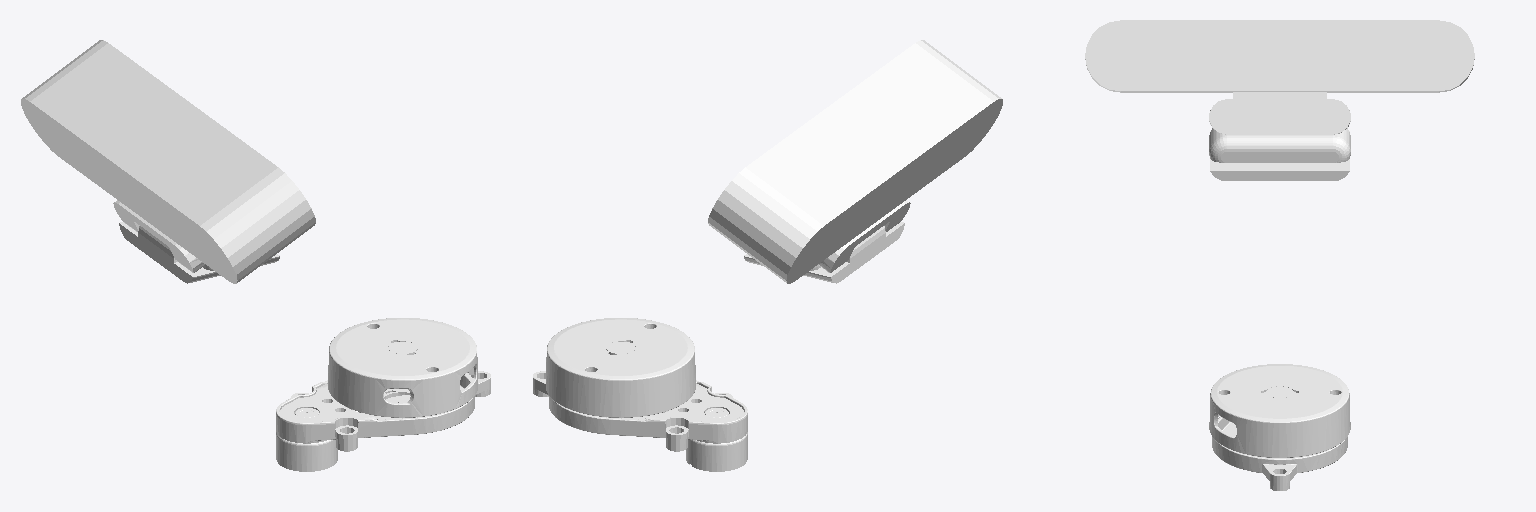
The robot description file, URDF, robot "limo_s2_description":
<?xml version="1.0" encoding="utf-8"?>
<!-- This URDF was automatically created by SolidWorks to URDF Exporter! Originally created by [author] ([email redacted]) 
     Commit Version: 1.6.0-1-g15f4949  Build Version: 1.6.7594.29634
     For more information, please see http://wiki.ros.org/sw_urdf_exporter -->
<robot
  name="limo_s2_description">
  <link
    name="base_link">
    <inertial>
      <origin
        xyz="0.0122854831271005 0.000301648748017558 0.00574813366704866"
        rpy="0 0 0" />
      <mass
        value="0.935880940379454" />
      <inertia
        ixx="0.00230607305054725"
        ixy="-2.1703175852137E-06"
        ixz="-0.000107737732961607"
        iyy="0.00211409736296743"
        iyz="-6.53845042786095E-07"
        izz="0.0038728434760199" />
    </inertial>
    <visual>
      <origin
        xyz="0.1 0 0"
        rpy="0 0 1.57" />
      <geometry>
        <mesh
          filename="package://limo_s2_description/meshes/dae/base_link.dae" />
      </geometry>
      <material
        name="">
        <color
          rgba="0.898039215686275 0.917647058823529 0.929411764705882 1" />
      </material>
    </visual>
    <collision>
      <origin
        xyz="0 0 0"
        rpy="0 0 0" />
      <geometry>
        <mesh
          filename="package://limo_s2_description/meshes/dae/base_link.dae" />
      </geometry>
    </collision>
  </link>
  <link
    name="front_left_wheel_Link">
    <inertial>
      <origin
        xyz="1.8652E-06 0.017054 7.5135E-07"
        rpy="0 0 0" />
      <mass
        value="0.20445" />
      <inertia
        ixx="6.6928E-05"
        ixy="5.6721E-09"
        ixz="6.8142E-10"
        iyy="0.00011034"
        iyz="3.3358E-10"
        izz="6.6926E-05" />
    </inertial>
    <visual>
      <origin
        xyz="0 0 0"
        rpy="0 0 0" />
      <geometry>
        <mesh
          filename="package://limo_s2_description/meshes/front_left_wheel_Link.STL" />
      </geometry>
      <material
        name="">
        <color
          rgba="0.75294 0.75294 0.75294 1" />
      </material>
    </visual>
    <collision>
      <origin
        xyz="0 0 0"
        rpy="0 0 0" />
      <geometry>
        <mesh
          filename="package://limo_s2_description/meshes/front_left_wheel_Link.STL" />
      </geometry>
    </collision>
  </link>
  <joint
    name="front_left_wheel_joint"
    type="continuous">
    <origin
      xyz="0.11788 0.06634 -0.0255"
      rpy="0 0 0" />
    <parent
      link="base_link" />
    <child
      link="front_left_wheel_Link" />
    <axis
      xyz="0 1 0" />
  </joint>
  <link
    name="front_right_wheel_Link">
    <inertial>
      <origin
        xyz="1.3775E-06 0.017054 -6.6041E-07"
        rpy="0 0 0" />
      <mass
        value="0.20445" />
      <inertia
        ixx="6.6928E-05"
        ixy="6.0143E-09"
        ixz="1.0384E-10"
        iyy="0.00011034"
        iyz="1.1454E-10"
        izz="6.6926E-05" />
    </inertial>
    <visual>
      <origin
        xyz="0 0 0"
        rpy="0 0 0" />
      <geometry>
        <mesh
          filename="package://limo_s2_description/meshes/front_right_wheel_Link.STL" />
      </geometry>
      <material
        name="">
        <color
          rgba="0.75294 0.75294 0.75294 1" />
      </material>
    </visual>
    <collision>
      <origin
        xyz="0 0 0"
        rpy="0 0 0" />
      <geometry>
        <mesh
          filename="package://limo_s2_description/meshes/front_right_wheel_Link.STL" />
      </geometry>
    </collision>
  </link>
  <joint
    name="front_right_wheel_joint"
    type="continuous">
    <origin
      xyz="0.11788 -0.06667 -0.0255"
      rpy="-3.1416 0 0" />
    <parent
      link="base_link" />
    <child
      link="front_right_wheel_Link" />
    <axis
      xyz="0 1 0" />
  </joint>
  <link
    name="rear_right_wheel_Link">
    <inertial>
      <origin
        xyz="-1.3772E-06 0.017054 -1.4935E-06"
        rpy="0 0 0" />
      <mass
        value="0.20445" />
      <inertia
        ixx="6.6927E-05"
        ixy="-4.9607E-09"
        ixz="1.167E-09"
        iyy="0.00011034"
        iyz="-2.7513E-09"
        izz="6.6927E-05" />
    </inertial>
    <visual>
      <origin
        xyz="0 0 0"
        rpy="0 0 0" />
      <geometry>
        <mesh
          filename="package://limo_s2_description/meshes/rear_right_wheel_Link.STL" />
      </geometry>
      <material
        name="">
        <color
          rgba="0.75294 0.75294 0.75294 1" />
      </material>
    </visual>
    <collision>
      <origin
        xyz="0 0 0"
        rpy="0 0 0" />
      <geometry>
        <mesh
          filename="package://limo_s2_description/meshes/rear_right_wheel_Link.STL" />
      </geometry>
    </collision>
  </link>
  <joint
    name="rear_right_wheel_joint"
    type="continuous">
    <origin
      xyz="-0.085123 -0.06667 -0.0255"
      rpy="3.1416 0 0" />
    <parent
      link="base_link" />
    <child
      link="rear_right_wheel_Link" />
    <axis
      xyz="0 1 0" />
  </joint>
  <link
    name="rear_letf_wheel_Link">
    <inertial>
      <origin
        xyz="1.1015E-06 0.017054 9.9372E-07"
        rpy="0 0 0" />
      <mass
        value="0.20445" />
      <inertia
        ixx="6.6926E-05"
        ixy="2.2044E-09"
        ixz="4.6491E-10"
        iyy="0.00011034"
        iyz="5.6133E-09"
        izz="6.6927E-05" />
    </inertial>
    <visual>
      <origin
        xyz="0 0 0"
        rpy="0 0 0" />
      <geometry>
        <mesh
          filename="package://limo_s2_description/meshes/rear_letf_wheel_Link.STL" />
      </geometry>
      <material
        name="">
        <color
          rgba="0.75294 0.75294 0.75294 1" />
      </material>
    </visual>
    <collision>
      <origin
        xyz="0 0 0"
        rpy="0 0 0" />
      <geometry>
        <mesh
          filename="package://limo_s2_description/meshes/rear_letf_wheel_Link.STL" />
      </geometry>
    </collision>
  </link>
  <joint
    name="rear_letf_wheel_joint"
    type="continuous">
    <origin
      xyz="-0.085123 0.06634 -0.0255"
      rpy="0 0 0" />
    <parent
      link="base_link" />
    <child
      link="rear_letf_wheel_Link" />
    <axis
      xyz="0 1 0" />
  </joint>
  <link
    name="laser_Link">
    <inertial>
      <origin
        xyz="-0.015885 0.00013253 -0.001814"
        rpy="0 0 0" />
      <mass
        value="0.023778" />
      <inertia
        ixx="5.1422E-06"
        ixy="-1.438E-08"
        ixz="-1.6035E-09"
        iyy="8.3268E-06"
        iyz="1.8496E-08"
        izz="1.2862E-05" />
    </inertial>
    <visual>
      <origin
        xyz="0 0 0"
        rpy="0 0 0" />
      <geometry>
        <mesh
          filename="package://limo_s2_description/meshes/laser_Link.STL" />
      </geometry>
      <material
        name="">
        <color
          rgba="1 1 1 1" />
      </material>
    </visual>
    <collision>
      <origin
        xyz="0 0 0"
        rpy="0 0 0" />
      <geometry>
        <mesh
          filename="package://limo_s2_description/meshes/laser_Link.STL" />
      </geometry>
    </collision>
  </link>
  <joint
    name="laser_joint"
    type="fixed">
    <origin
      xyz="0.0038772 -0.00016487 0.0644"
      rpy="0 0 0" />
    <parent
      link="base_link" />
    <child
      link="laser_Link" />
    <axis
      xyz="0 0 0" />
  </joint>
  <link
    name="camera_Link">
    <inertial>
      <origin
        xyz="0 0 0"
        rpy="0 0 0" />
      <mass
        value="0" />
      <inertia
        ixx="0"
        ixy="0"
        ixz="0"
        iyy="0"
        iyz="0"
        izz="0" />
    </inertial>
    <visual>
      <origin
        xyz="0 0 0"
        rpy="0 0 0" />
      <geometry>
        <mesh
          filename="package://limo_s2_description/meshes/camera_Link.STL" />
      </geometry>
      <material
        name="">
        <color
          rgba="1 1 1 1" />
      </material>
    </visual>
    <collision>
      <origin
        xyz="0 0 0"
        rpy="0 0 0" />
      <geometry>
        <mesh
          filename="package://limo_s2_description/meshes/camera_Link.STL" />
      </geometry>
    </collision>
  </link>
  <joint
    name="camera_joint"
    type="fixed">
    <origin
      xyz="-0.091096 -0.00016487 0.1615"
      rpy="0 0 0" />
    <parent
      link="base_link" />
    <child
      link="camera_Link" />
    <axis
      xyz="0 0 0" />
  </joint>
</robot>

--- Facts derived from the render (not from the file) ---
Views: 3 orthographic renders of the robot side by side, from view 1: azimuth 30°, elevation 25°; view 2: azimuth 150°, elevation 25°; view 3: azimuth 270°, elevation 25°.
Robot: limo_s2_description — 7 links, 6 joints (4 continuous, 2 fixed); root link base_link; default pose: every joint at zero.
Links seen in each view (by area): view 1: camera_Link, laser_Link; view 2: camera_Link, laser_Link; view 3: camera_Link, laser_Link.
Link boxes in pixels (<box>): camera_Link: <box>21,40,315,283</box>; laser_Link: <box>276,318,490,471</box>; camera_Link: <box>708,40,1002,283</box>; laser_Link: <box>533,318,747,471</box>; camera_Link: <box>1085,20,1474,180</box>; laser_Link: <box>1209,364,1350,490</box>.
Bounding box of the posed robot: 0.1719 × 0.1648 × 0.1675 m (x, y, z).
2 mesh visuals loaded from 7 distinct referenced files (2 binary STL); not drawn: 5 (reference not matched to a file when rendering).